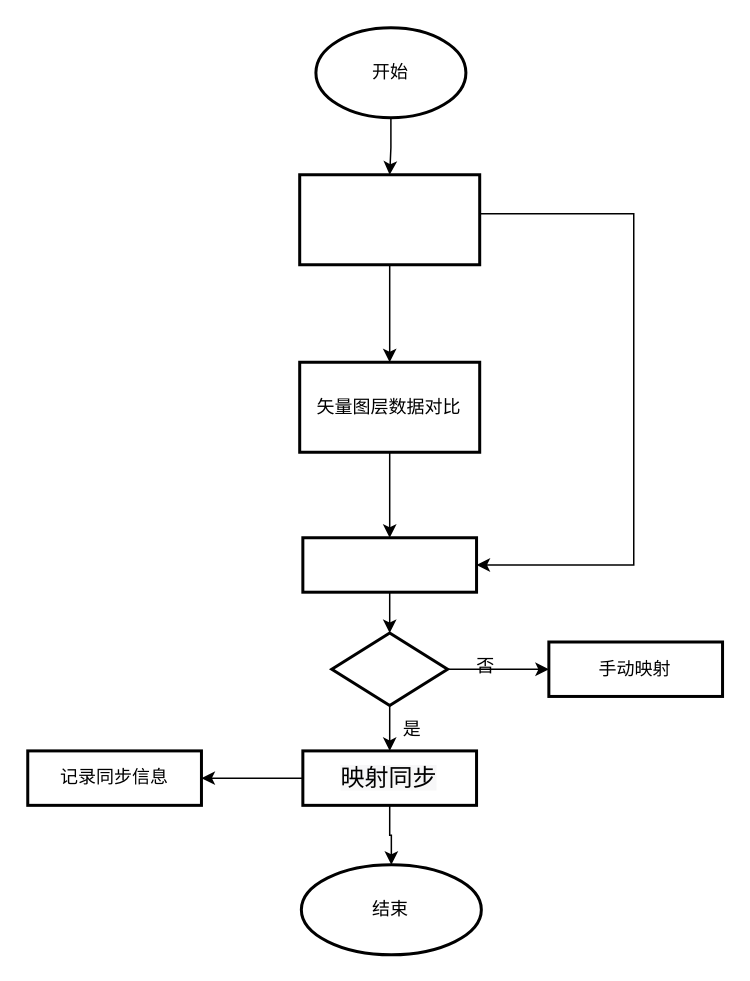
This 750x981 diagram has some shape labels left out. The centre of each missing label's shape, as x and y in pixels:
名称是否 匹配: pixel 389 668
矢量资源数据对比: pixel 388 219
自动对比: pixel 389 564
